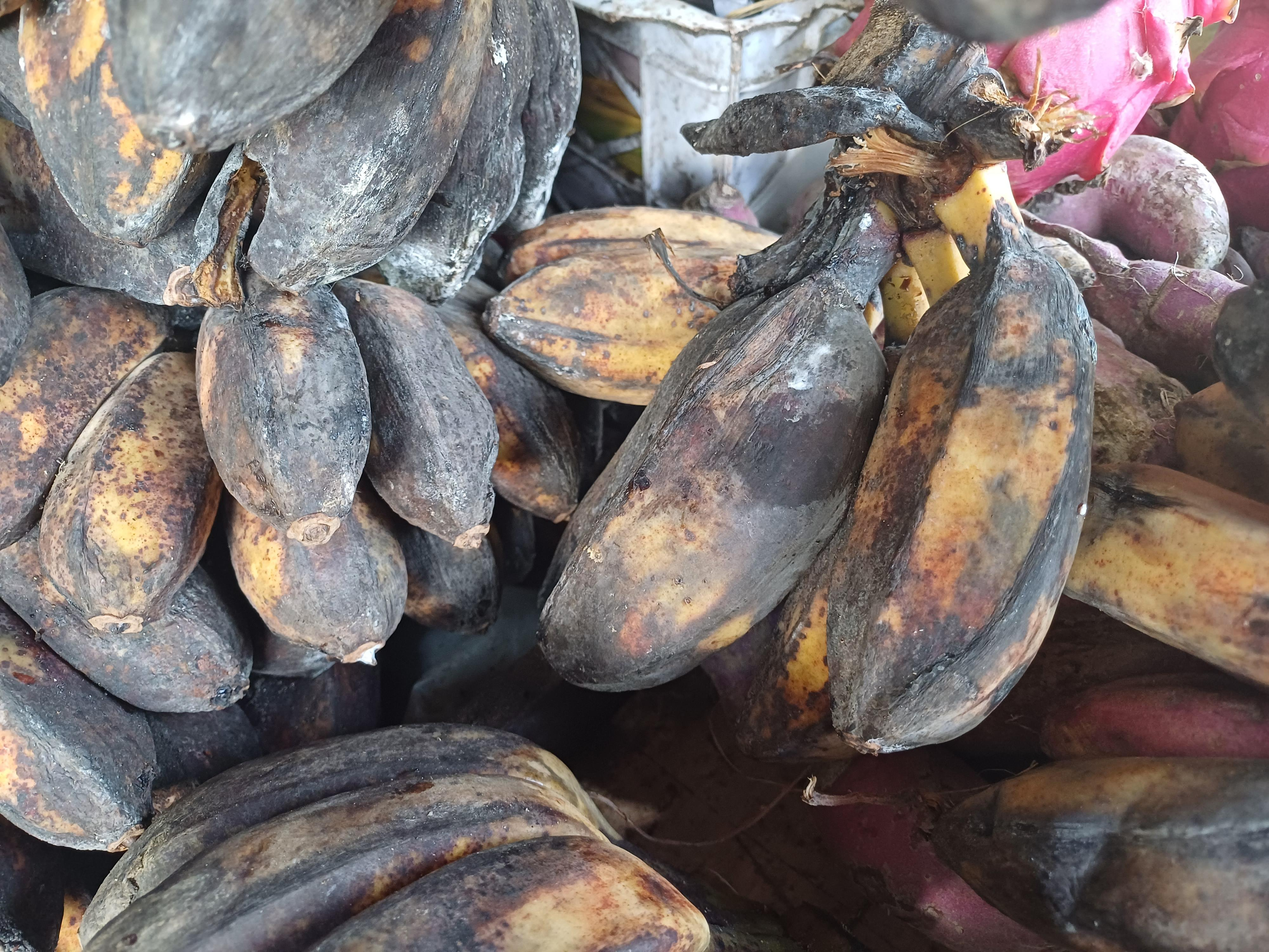overripe: (535, 253, 1099, 765), (0, 273, 581, 711), (0, 0, 581, 306), (75, 722, 711, 952), (0, 602, 380, 852)
